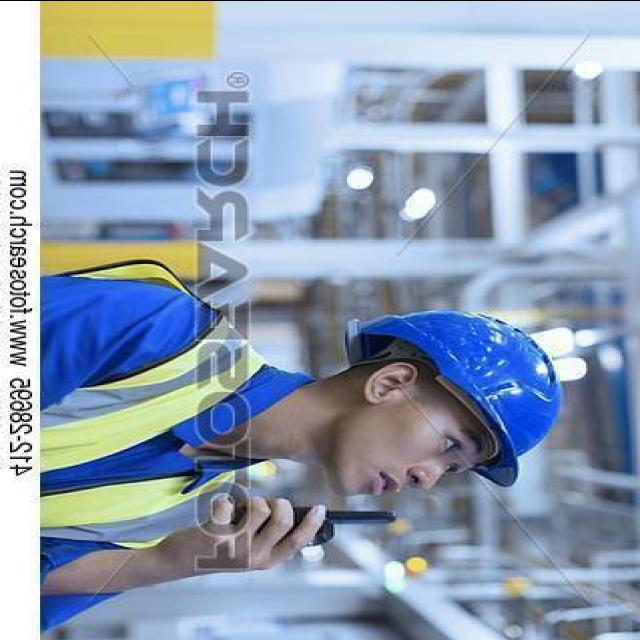helmet: (340, 305, 568, 495)
